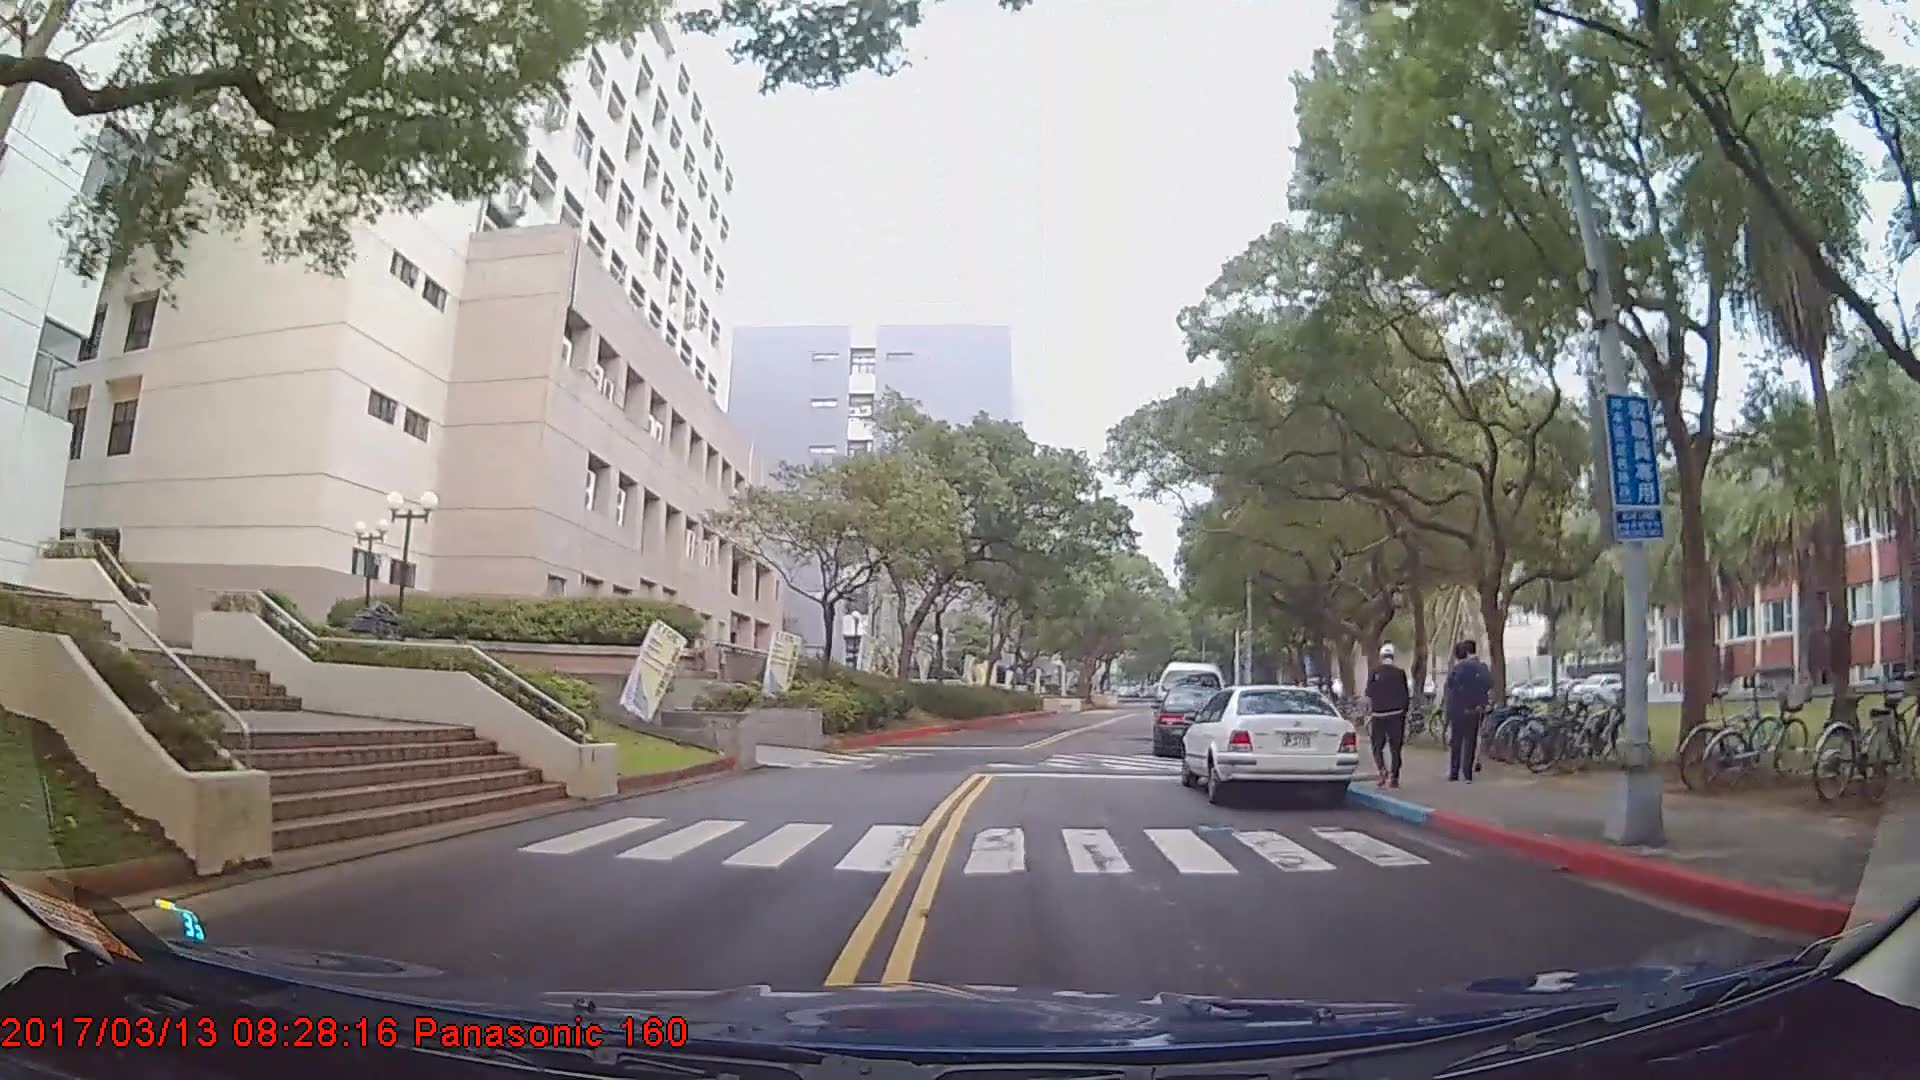pedestrian: (1443, 641, 1495, 790), (1364, 645, 1413, 793)
vehicle: (1181, 684, 1360, 808), (1151, 684, 1241, 757)
